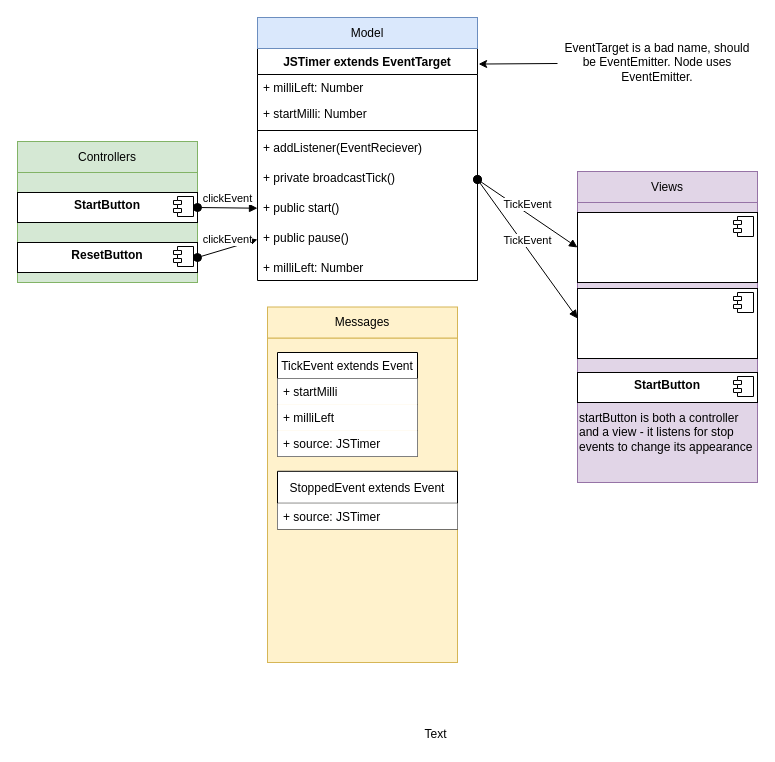
Image size: 775x762. Some labels were removed from this diagram. Here are the shapes that lost their labels. From the top down, the centre of each, then its label:
At (667,247): "TimerTextDisplay + TimeLeft: String".
At (667,323): "TimerDialDisplay + drawArc()".
